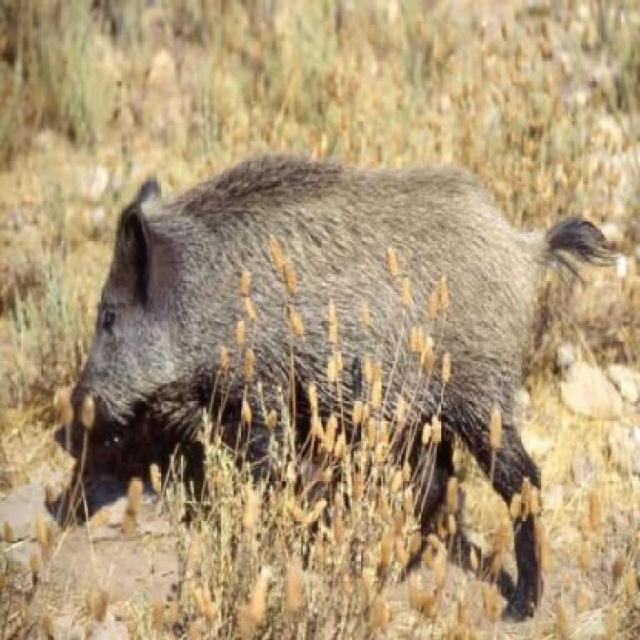pig: (74, 154, 600, 607)
